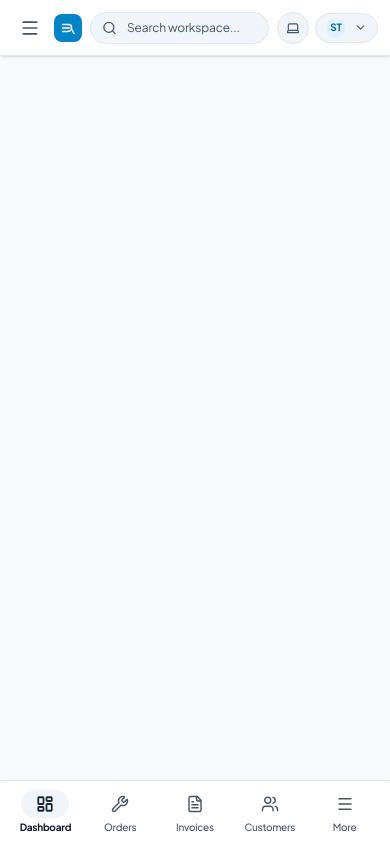
Test: AppShell Responsive Mobile Navigation › provides a hamburger menu button in the top app bar for compact viewports
Click the button named "Open navigation menu".
click(30, 28)  # box [12,10,48,46]
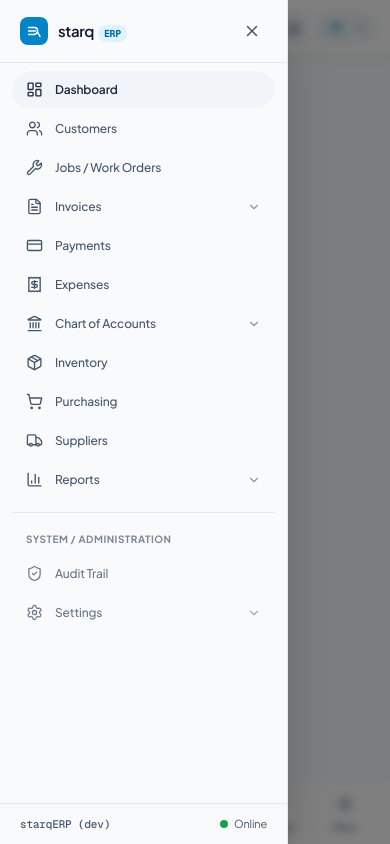
Expected: the dialog is shown
